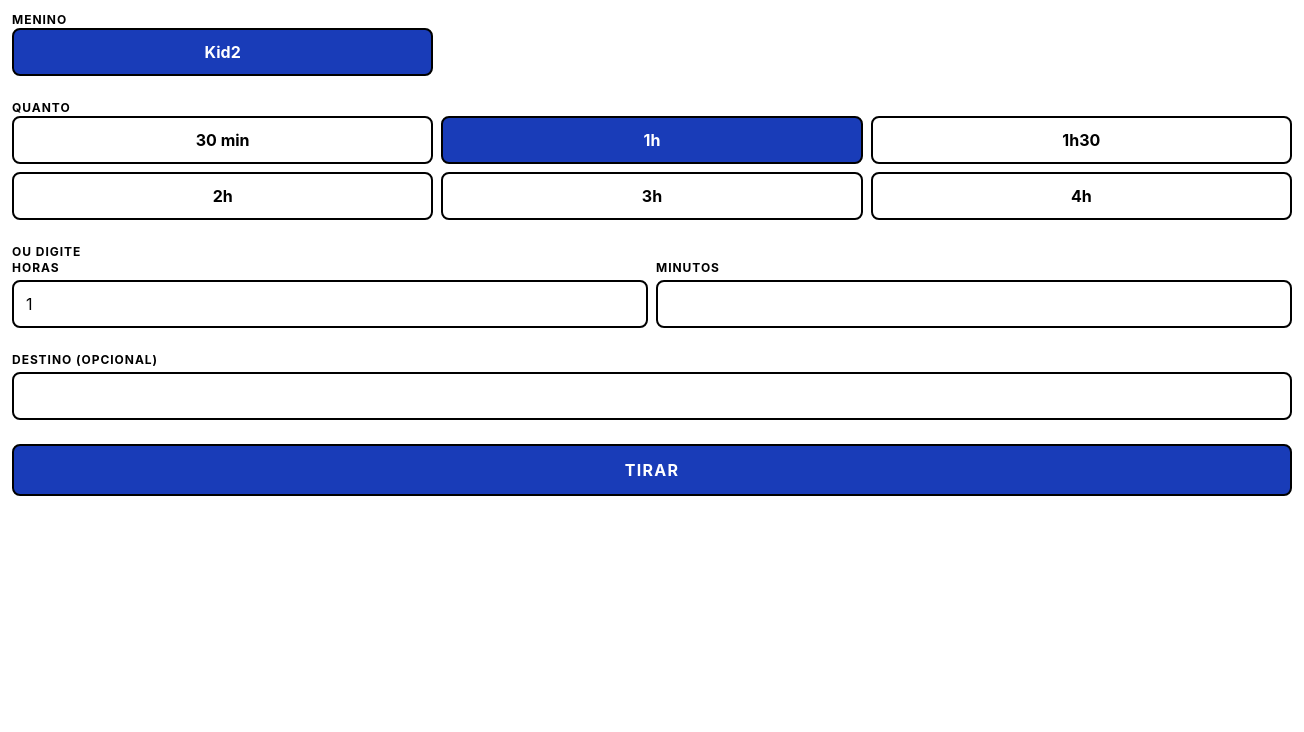
it: the confirmation (D53) › says nothing was written when the preview's answer is lost
This screenshot has width=1304, height=732.
Step 1. Click the button "Tirar" → point(652, 470), box x1=12 y1=444 x2=1292 y2=496
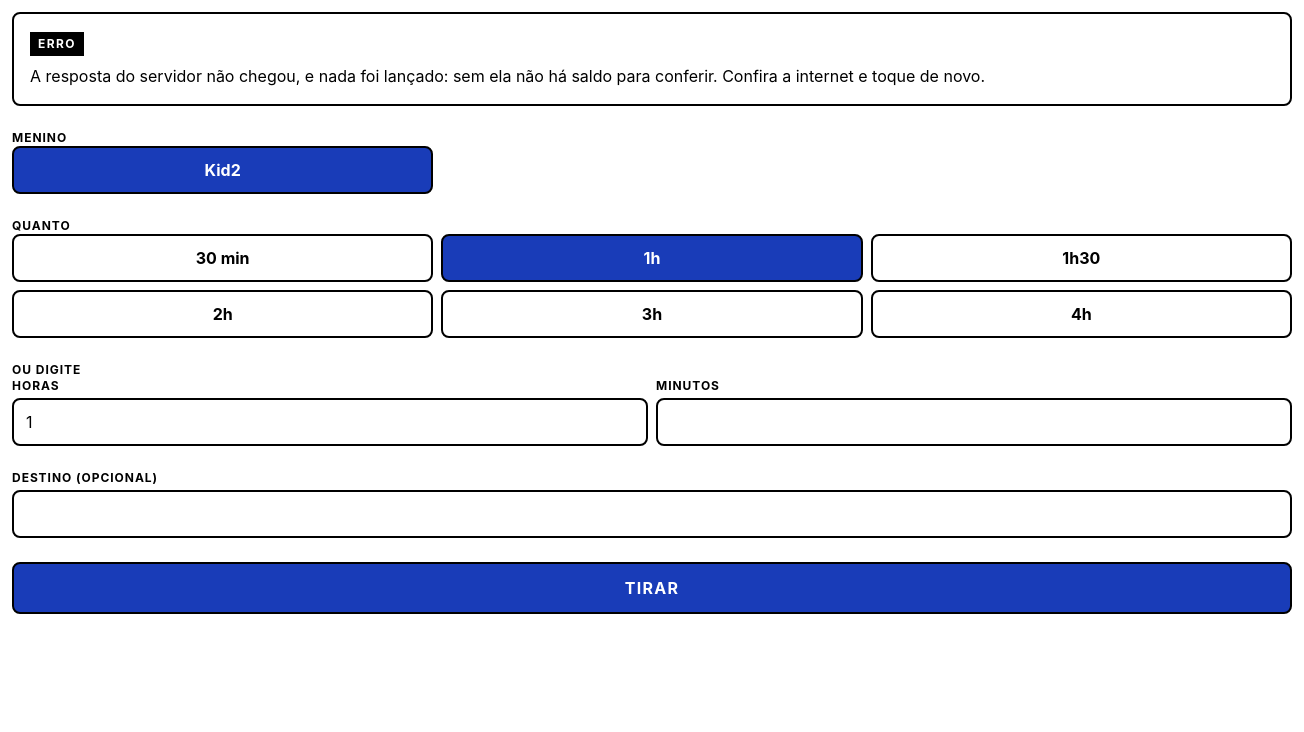
Expected: the text "nada foi lançado" is shown, x1=30 y1=66 x2=985 y2=86
